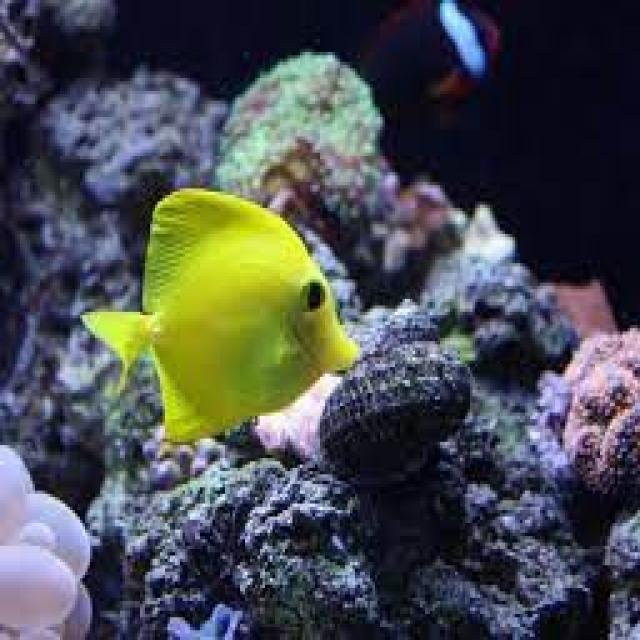YellowTang: (95, 170, 346, 484)
